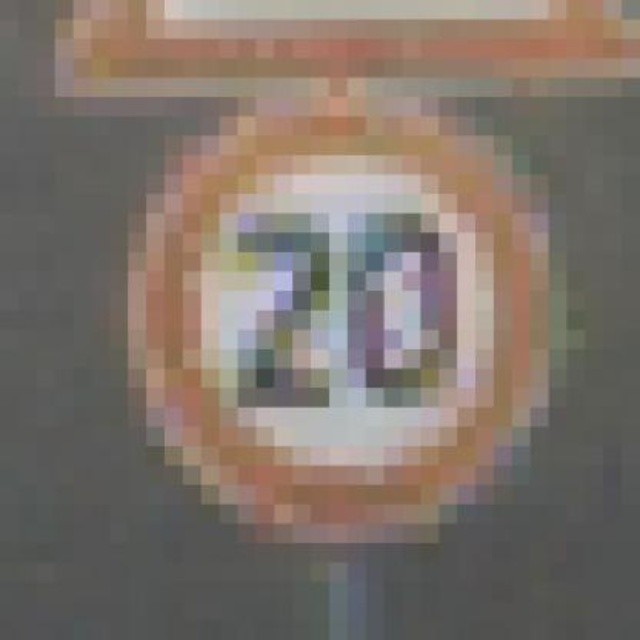Tốc độ tối đa cho phép 20km/h: (141, 111, 547, 523)
